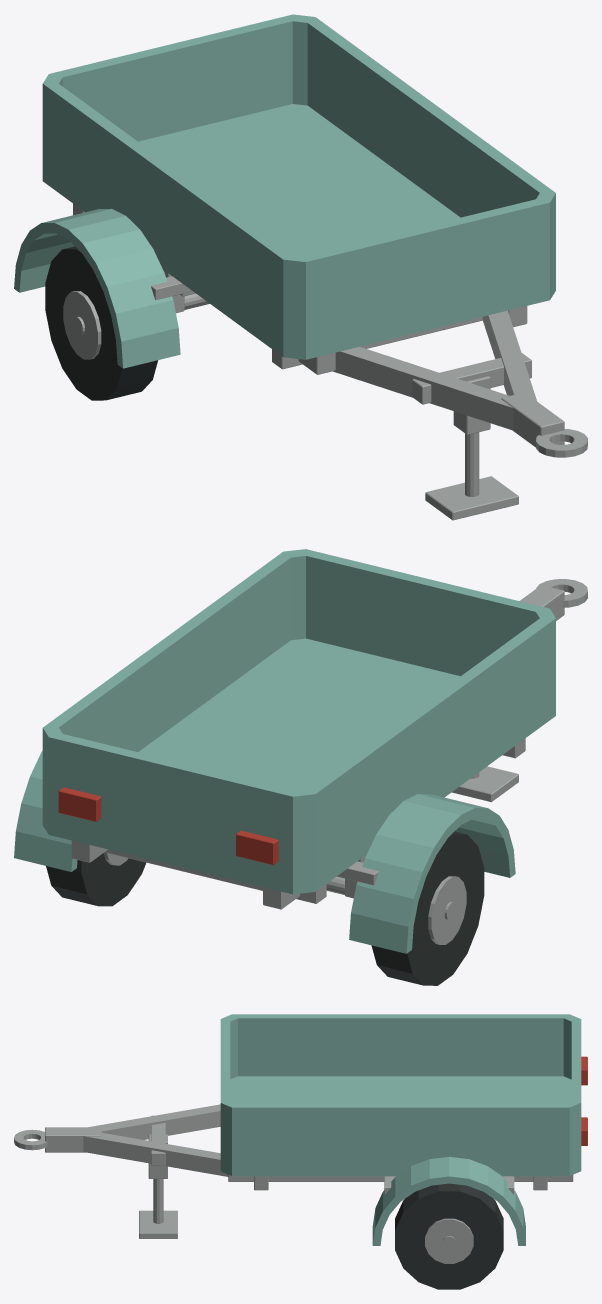
3 renders of one model, top to bottom at view 1: azimuth 30°, elevation 25°; view 2: azimuth 150°, elevation 25°; view 3: azimuth 270°, elevation 25°, orthographic. The views are drawn at different scales.
Parts seen in each view (by area): view 1: CargoTub_ContinuousOpenShell, Mudguard_Left, Tyre_Left_FlatContact, Drawbar_A_Left, ParkingFoot_GroundPlate, Drawbar_A_Right, Hub_Left, TowEye_Shank, Drawbar_Crossbrace, TowEye_ThroughRing, ParkingLeg_FixedStem, Crossmember_Front (+1 smaller); view 2: CargoTub_ContinuousOpenShell, Mudguard_Left, Tyre_Left_FlatContact, Tyre_Right_FlatContact, Mudguard_Right, Hub_Left, ParkingFoot_GroundPlate, RearMarker_Right, RearMarker_Left, Crossmember_Rear, TowEye_Shank, TowEye_ThroughRing (+1 smaller); view 3: CargoTub_ContinuousOpenShell, Tyre_Right_FlatContact, Mudguard_Right, Drawbar_A_Right, Drawbar_A_Left, Hub_Right, TowEye_Shank, Chassis_Right, ParkingFoot_GroundPlate, TowEye_ThroughRing, Drawbar_Crossbrace, ParkingLeg_FixedStem.
Part boxes in pixels (left/top/right/bottom): CargoTub_ContinuousOpenShell: left=42, top=14, right=555, bottom=359; Mudguard_Left: left=14, top=208, right=180, bottom=368; Tyre_Left_FlatContact: left=45, top=246, right=158, bottom=400; Drawbar_A_Left: left=333, top=346, right=513, bottom=430; ParkingFoot_GroundPlate: left=425, top=476, right=518, bottom=520; Drawbar_A_Right: left=482, top=310, right=536, bottom=400; Hub_Left: left=63, top=291, right=101, bottom=359; TowEye_Shank: left=501, top=392, right=564, bottom=447; Drawbar_Crossbrace: left=412, top=352, right=531, bottom=404; TowEye_ThroughRing: left=536, top=429, right=587, bottom=457; ParkingLeg_FixedStem: left=465, top=432, right=479, bottom=496; Crossmember_Front: left=272, top=317, right=482, bottom=369; CargoTub_ContinuousOpenShell: left=42, top=549, right=555, bottom=894; Mudguard_Left: left=349, top=794, right=515, bottom=953; Tyre_Left_FlatContact: left=371, top=831, right=484, bottom=985; Tyre_Right_FlatContact: left=46, top=853, right=145, bottom=906; Mudguard_Right: left=14, top=751, right=77, bottom=871; Hub_Left: left=428, top=876, right=466, bottom=944; ParkingFoot_GroundPlate: left=451, top=766, right=518, bottom=802; RearMarker_Right: left=58, top=787, right=101, bottom=821; RearMarker_Left: left=236, top=830, right=278, bottom=865; Crossmember_Rear: left=105, top=849, right=326, bottom=903; TowEye_Shank: left=519, top=585, right=564, bottom=620; TowEye_ThroughRing: left=536, top=579, right=587, bottom=607; CargoTub_ContinuousOpenShell: left=220, top=1014, right=581, bottom=1176; Tyre_Right_FlatContact: left=395, top=1183, right=503, bottom=1289; Mudguard_Right: left=372, top=1156, right=525, bottom=1245; Drawbar_A_Right: left=83, top=1132, right=228, bottom=1176; Drawbar_A_Left: left=88, top=1104, right=220, bottom=1139; Hub_Right: left=425, top=1218, right=473, bottom=1263; TowEye_Shank: left=45, top=1127, right=101, bottom=1152; Chassis_Right: left=228, top=1174, right=573, bottom=1181; ParkingFoot_GroundPlate: left=139, top=1210, right=177, bottom=1238; TowEye_ThroughRing: left=14, top=1129, right=47, bottom=1150; Drawbar_Crossbrace: left=151, top=1115, right=165, bottom=1165; ParkingLeg_FixedStem: left=153, top=1179, right=163, bottom=1223.
Size of the model in its own units: 1.64 by 0.95 by 2.96.
